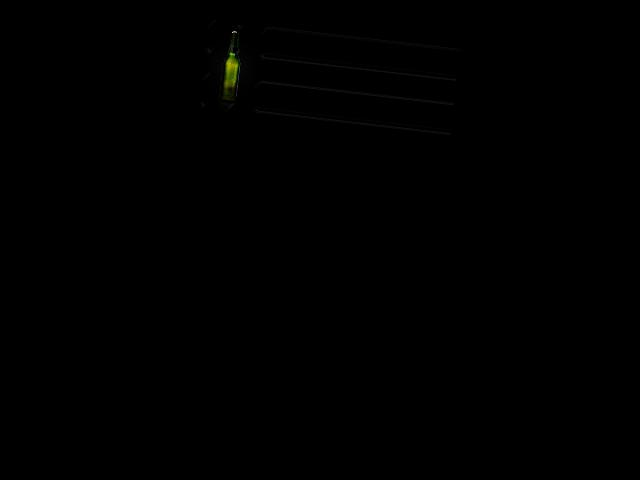beer: (219, 29, 244, 103)
